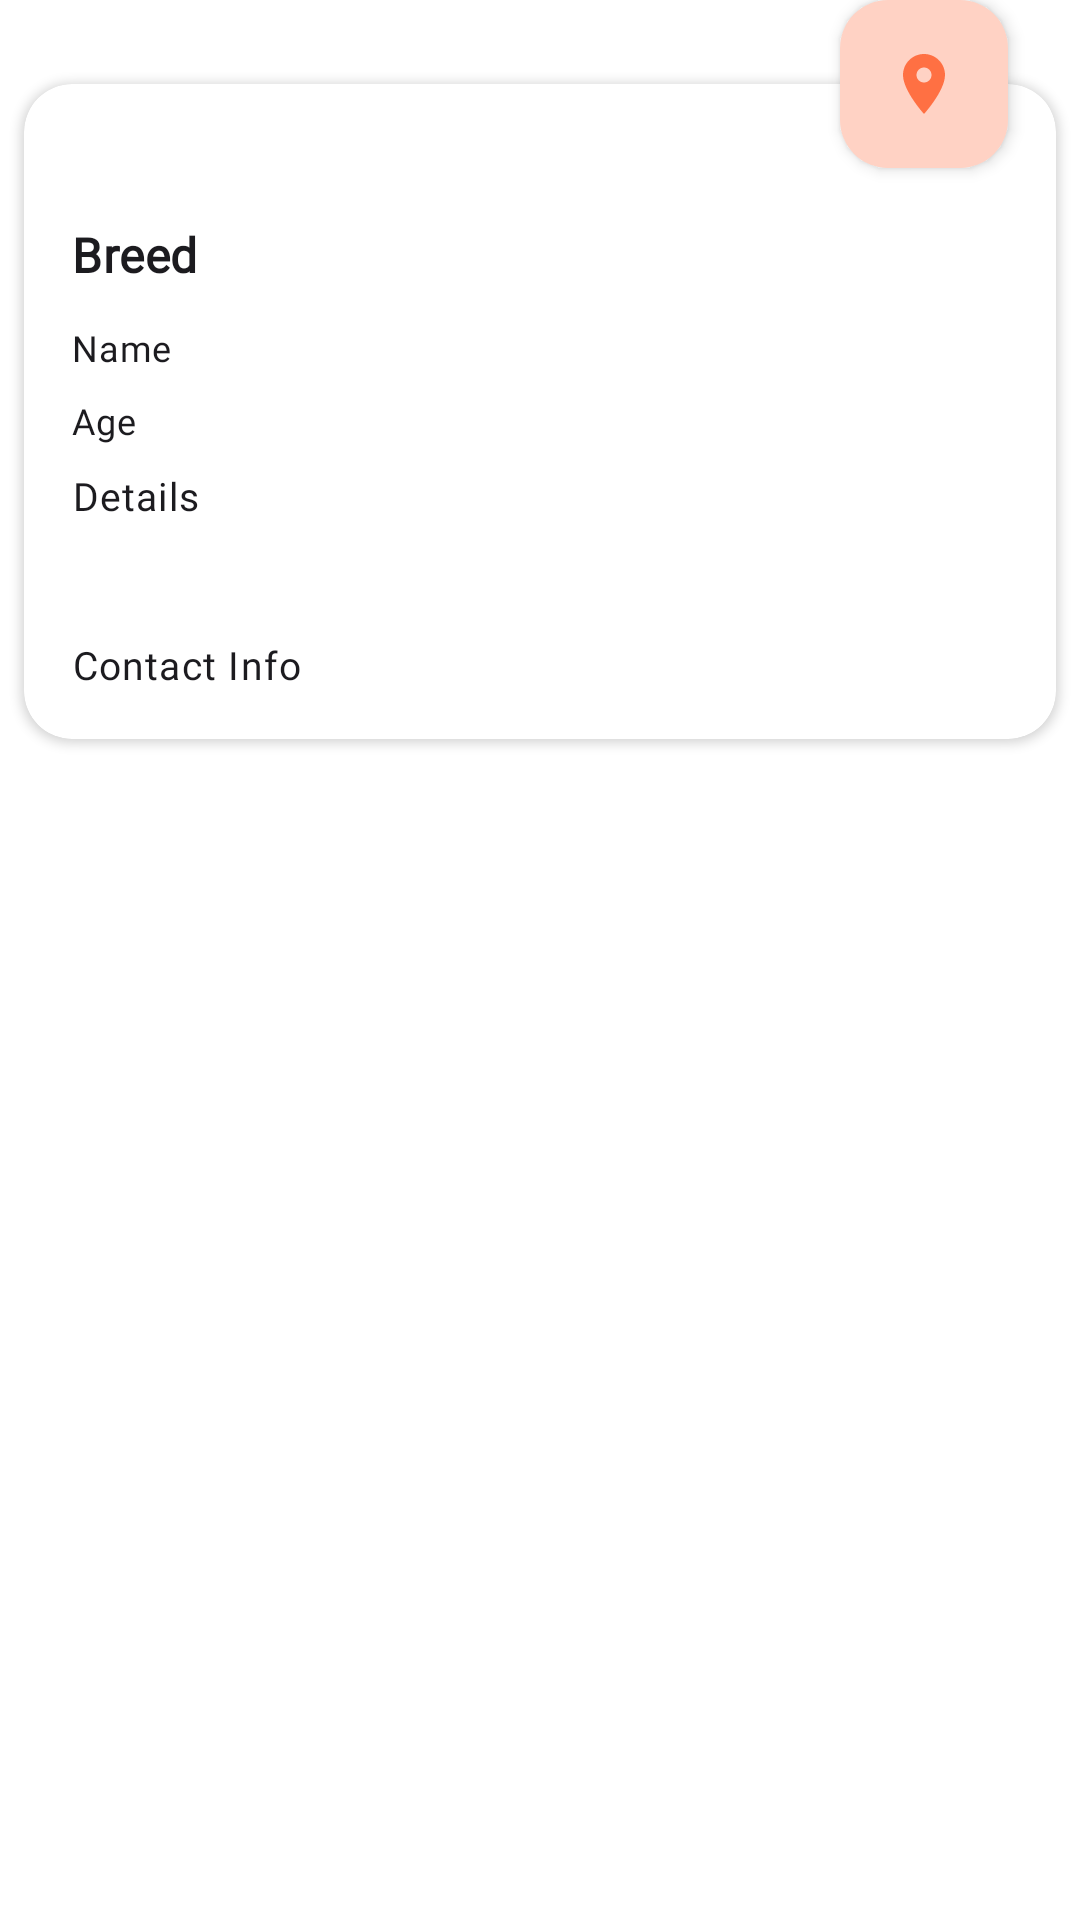

Icons on this 1080px x 1920px Android screen, each with the point to tap as (x=x, y=y):
location on: (x=924, y=84)
